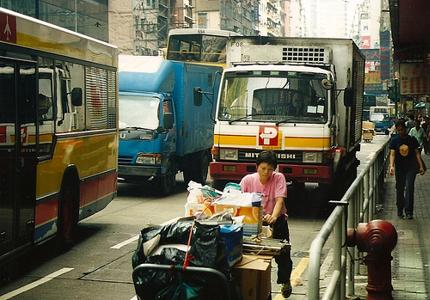person: (239, 151, 293, 298)
